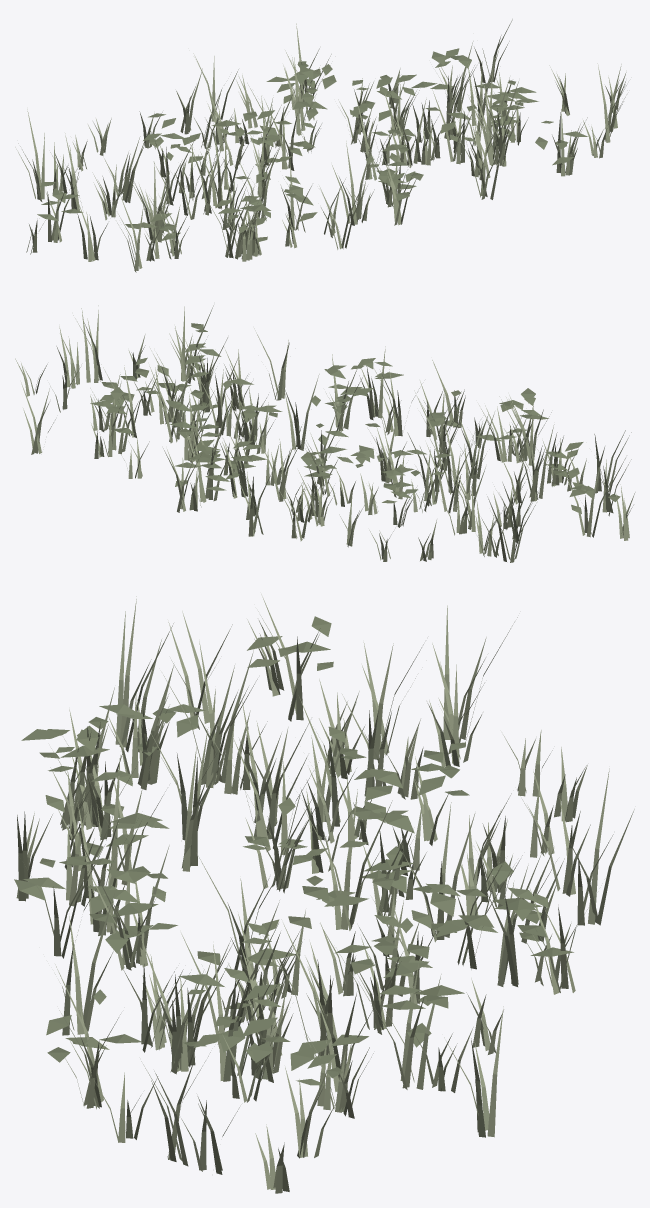
Rendered from AE_Encroachment_02.fbx.
3 renders of one model, top to bottom at view 1: azimuth 30°, elevation 25°; view 2: azimuth 150°, elevation 25°; view 3: azimuth 270°, elevation 25°, orthographic. The views are drawn at different scales.
Parts seen in each view (by area): view 1: AE_Encroachment_02_LOD0; view 2: AE_Encroachment_02_LOD0; view 3: AE_Encroachment_02_LOD0.
Boxes of the visible parts, x1,y1,x2,y2 form: AE_Encroachment_02_LOD0: (15, 19, 626, 272); AE_Encroachment_02_LOD0: (15, 305, 635, 562); AE_Encroachment_02_LOD0: (14, 594, 634, 1193).
Size of what is drawn, in the model's own units: 819 by 105 by 416.
